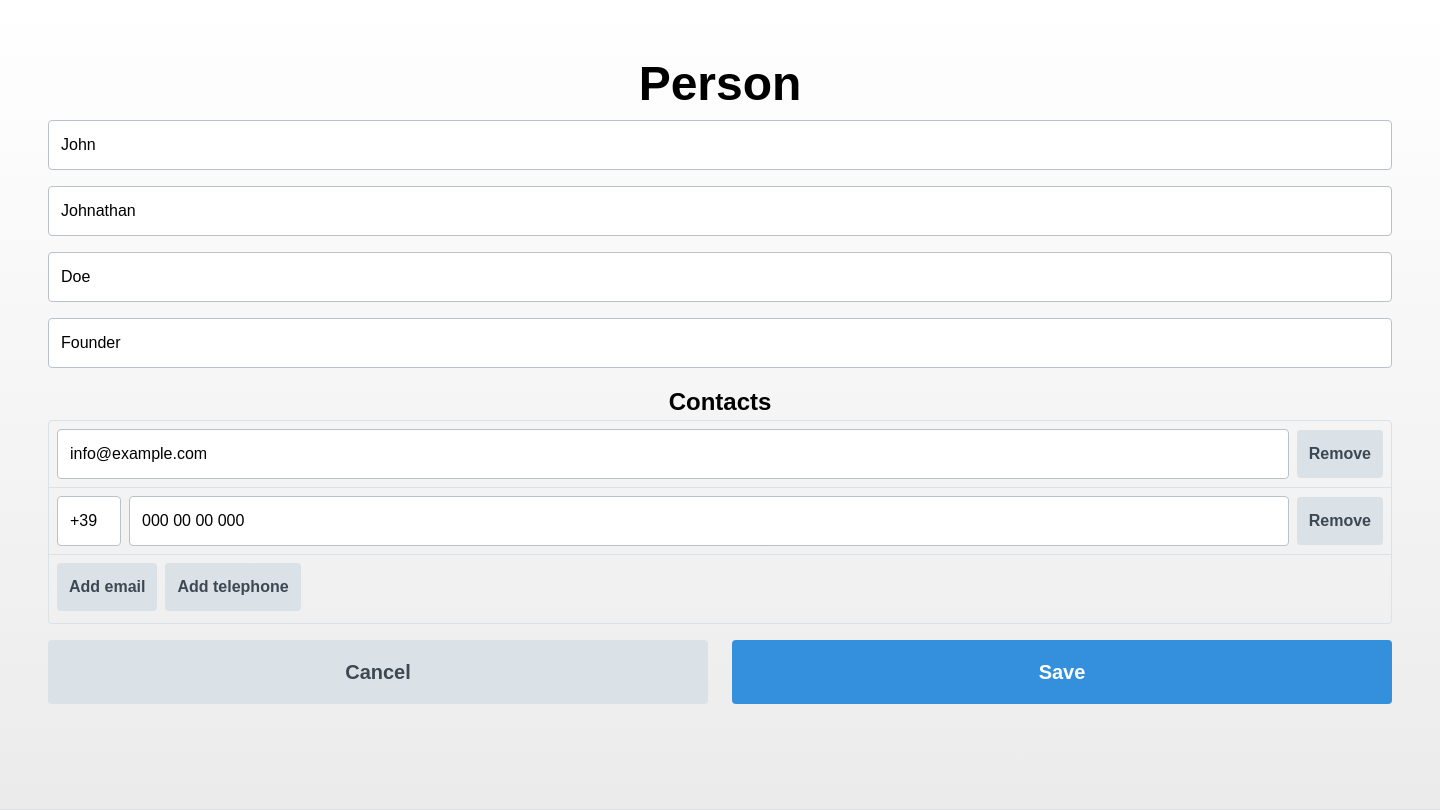
Test: PersonForm.vue › adds an email contact when the add email button is clicked
Click the button with id "add_email" at (107, 587), box [57,563,158,611]
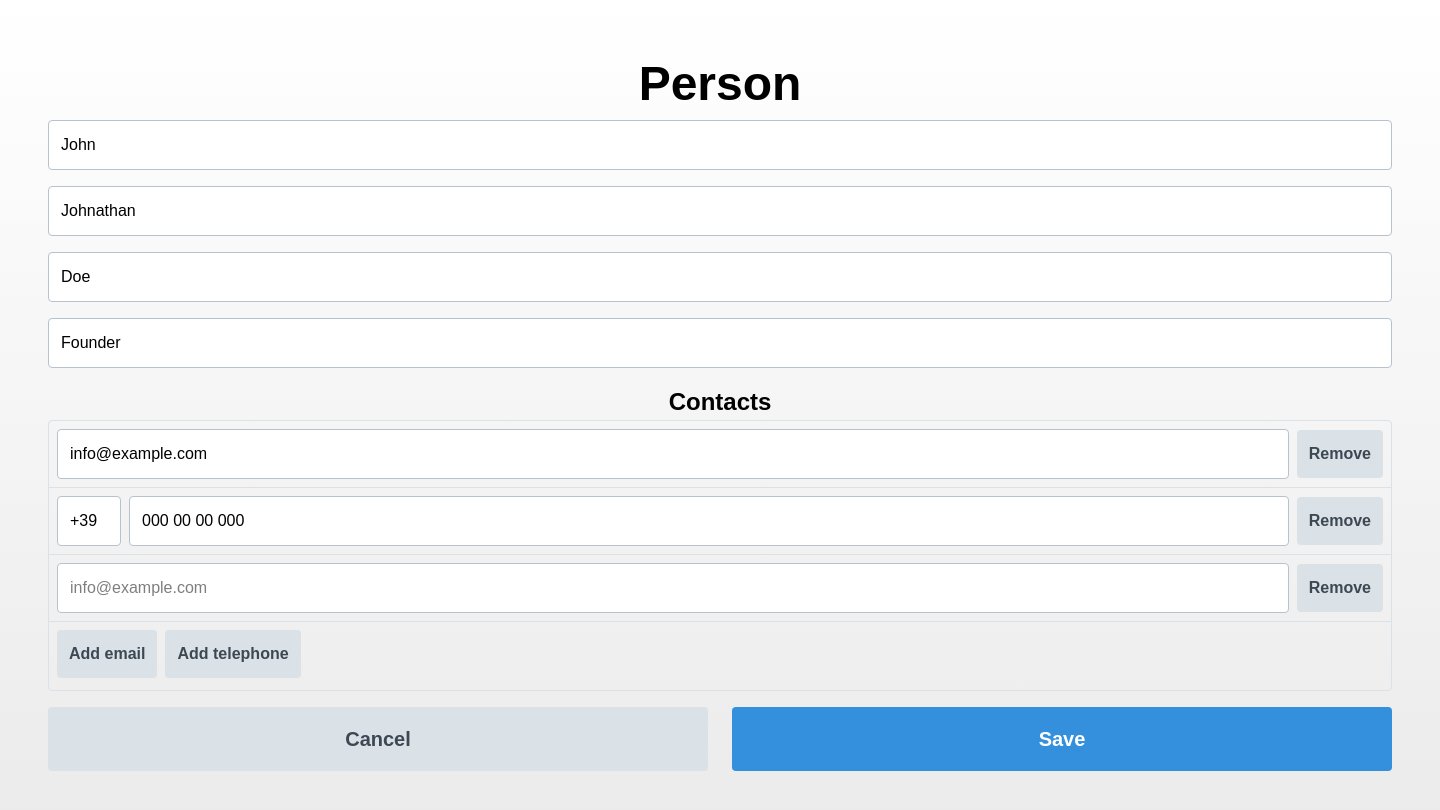
Result: the 3rd list item "Remove" is shown at [49,555,1391,622]
Result: the field named "value" is shown at [57,563,1289,613]
